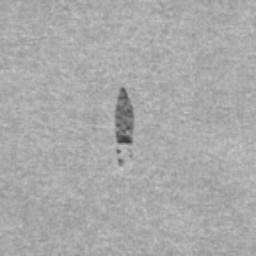Secondary rust skin: (114, 87, 135, 146), (117, 157, 125, 167)
